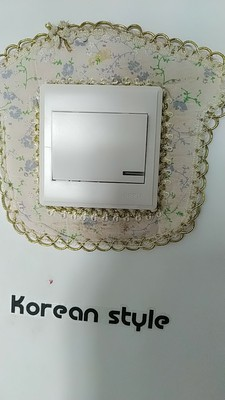switch: (46, 107, 149, 185)
